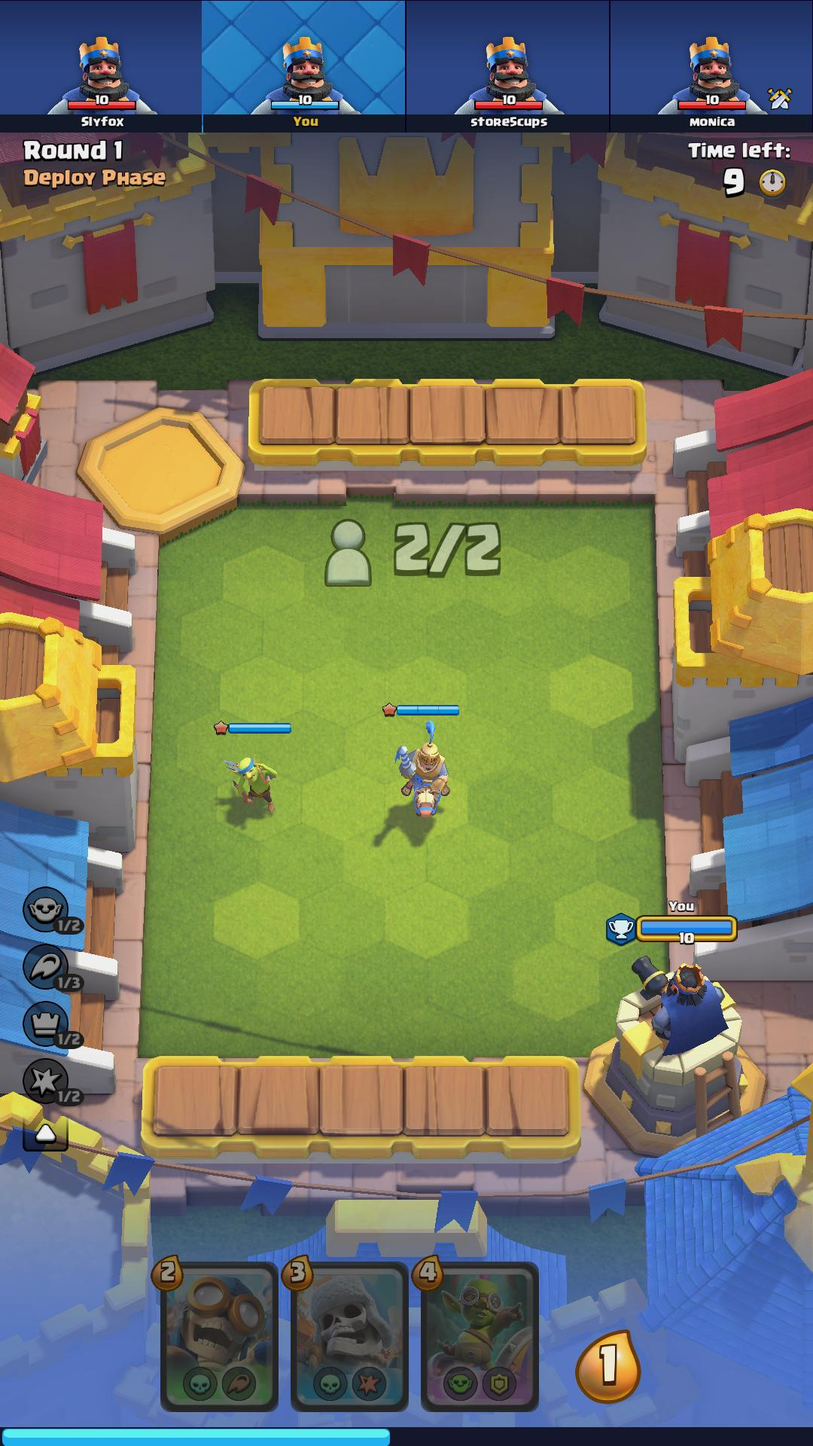hand-bomber: (169, 1269, 276, 1405)
hand-giant: (296, 1261, 404, 1403)
hand-machine: (424, 1264, 537, 1411)
prince: (386, 718, 459, 822)
spear: (222, 743, 292, 817)
